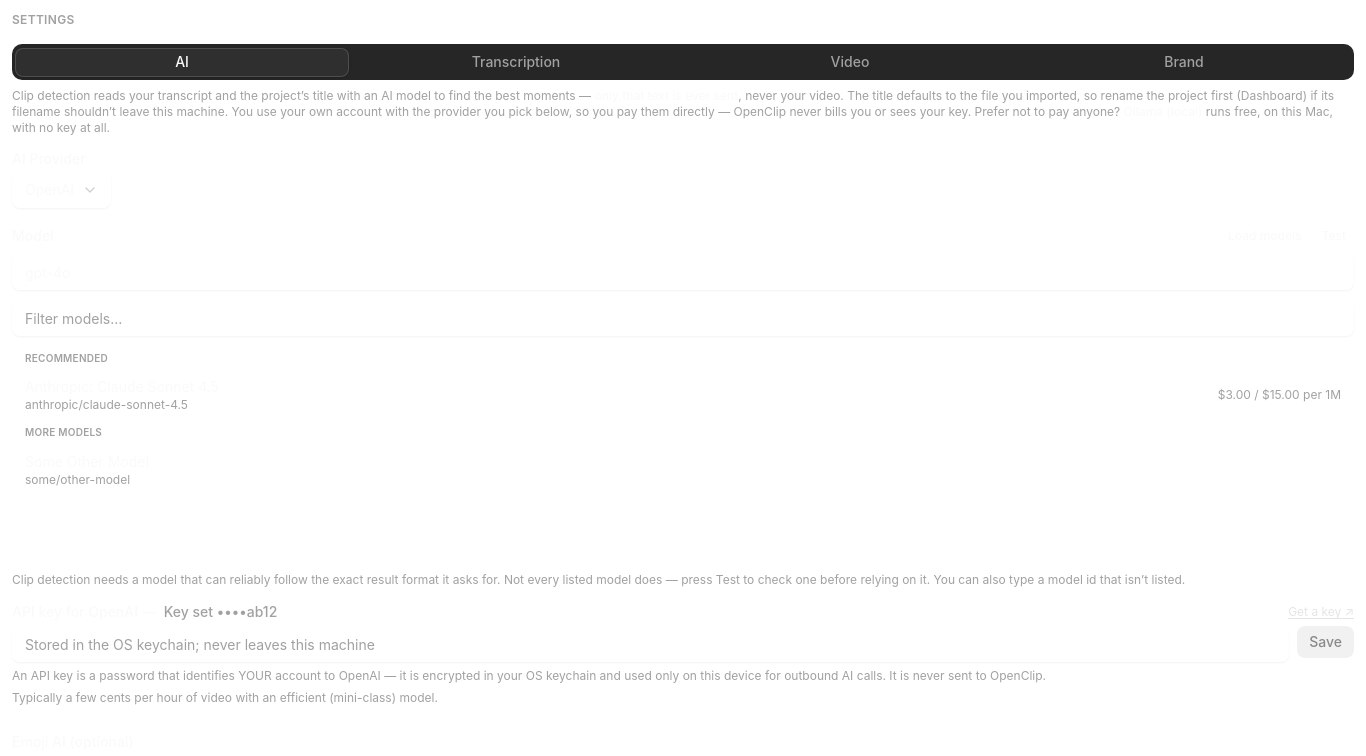
Test case: SettingsPanel: three tabs, nothing lost in the split › reaches the brand kit via its tab
The image size is (1366, 756).
Click the tab with test id "settings-tab-brand" at (1184, 62), box left=1017, top=48, right=1351, bottom=76
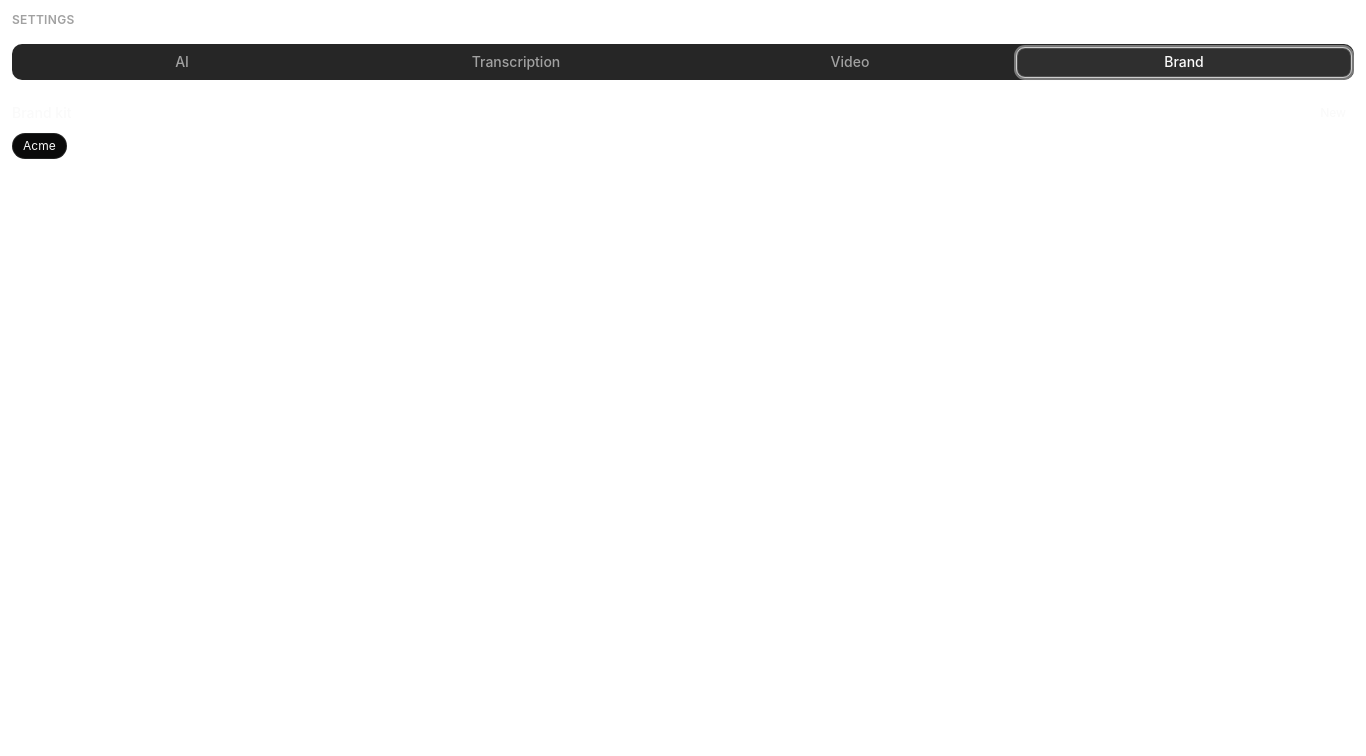
Result: the element with test id "brand-kit-editor" is shown at left=12, top=88, right=1354, bottom=159
